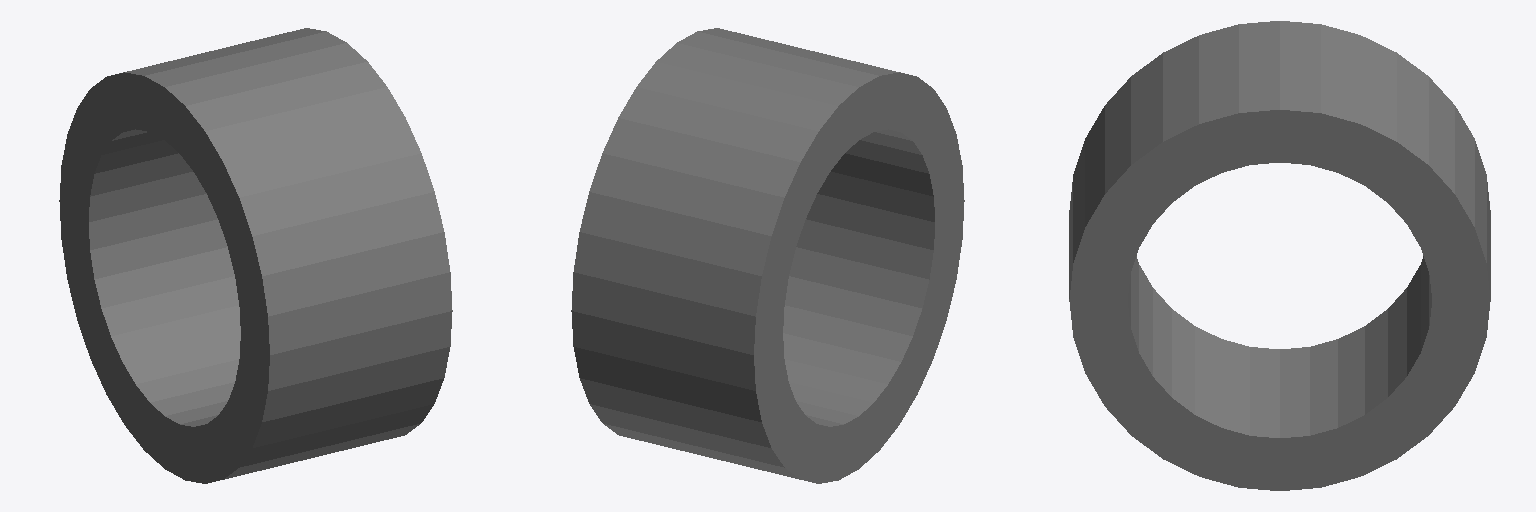
Rendered from pos.obj.
3 views of the same model, side by side, from view 1: azimuth 30°, elevation 25°; view 2: azimuth 150°, elevation 25°; view 3: azimuth 270°, elevation 25° (orthographic).
Parts seen in each view (by area): view 1: Cylinder.000_Cylinder.000; view 2: Cylinder.000_Cylinder.000; view 3: Cylinder.000_Cylinder.000.
Boxes of the visible parts, <box> form: Cylinder.000_Cylinder.000: <box>59,28,452,483</box>; Cylinder.000_Cylinder.000: <box>571,28,964,483</box>; Cylinder.000_Cylinder.000: <box>1069,21,1490,490</box>.
Bounding box in the file's own units: 0.1197 × 0.2393 × 0.2393.